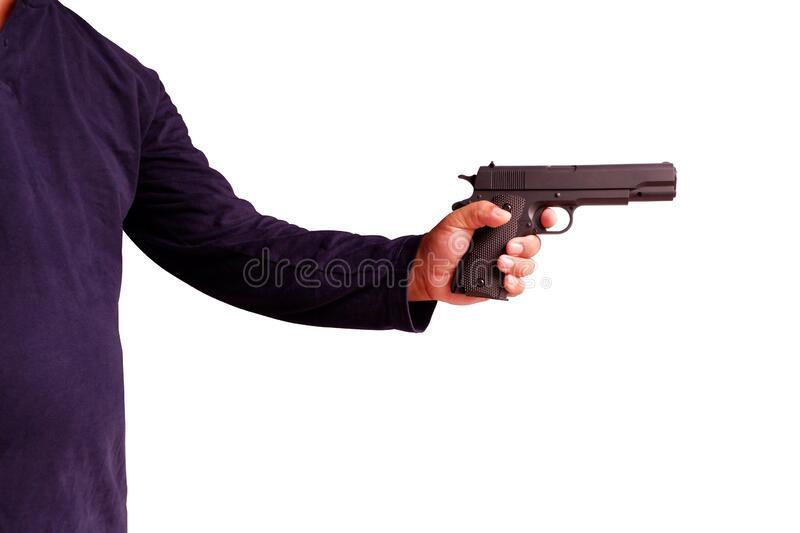weapon: (445, 156, 680, 304)
